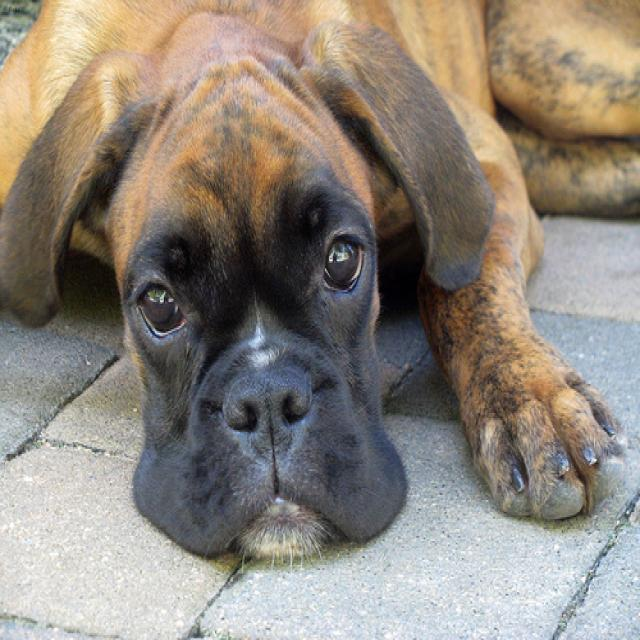dog-boxer: (1, 2, 637, 577)
